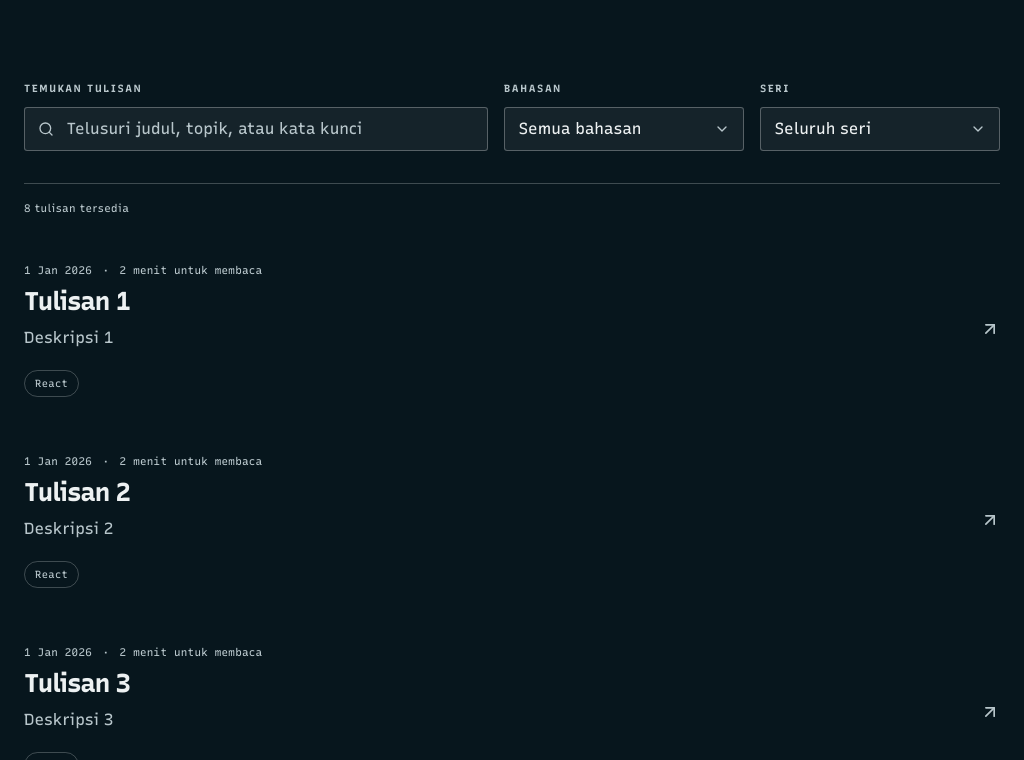
PostBrowser › filters immediately while typing without touching the URL
This screenshot has width=1024, height=760.
Type "tulisan 7" into the field labelled "Temukan tulisan" at (256, 129), box [24,107,488,151]
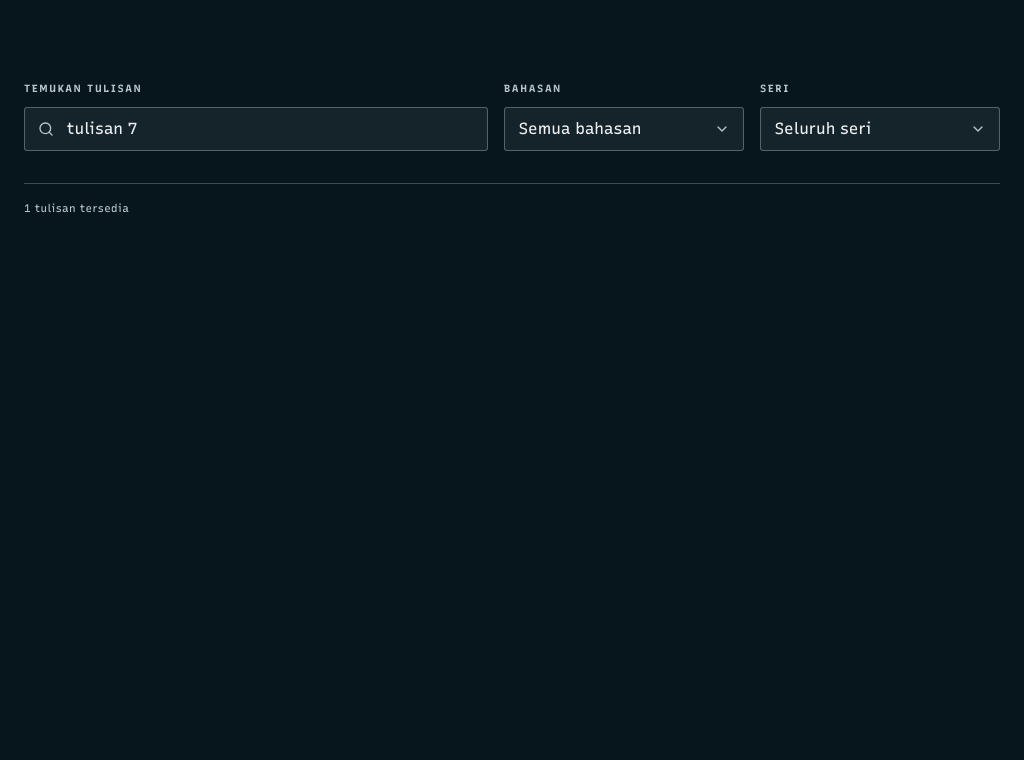
Expected: the link "Tulisan 1" is gone
